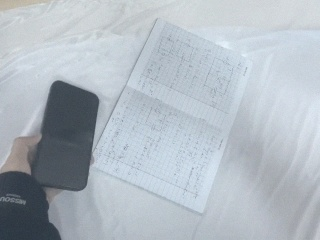phone: (32, 80, 100, 192)
